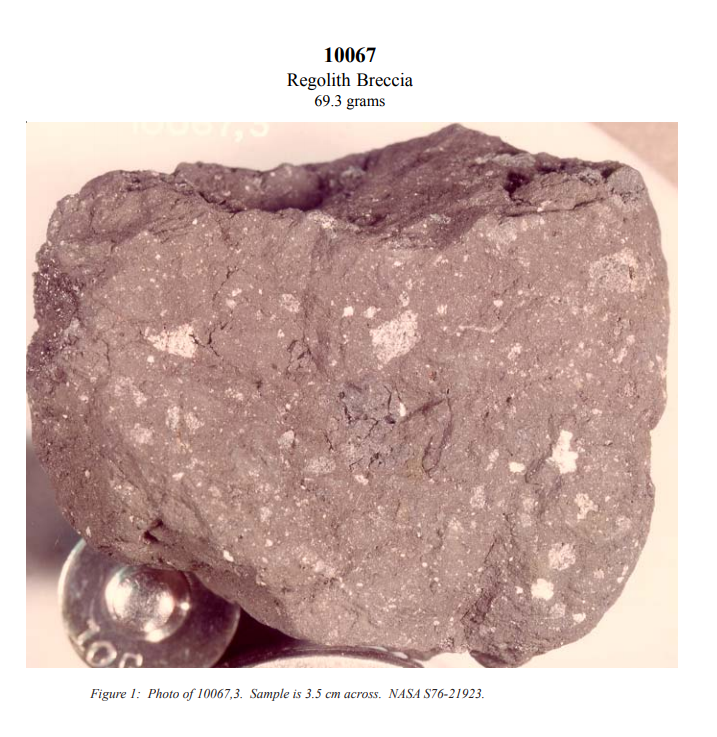Breccia: (52, 180, 637, 633), (263, 323, 579, 588)
